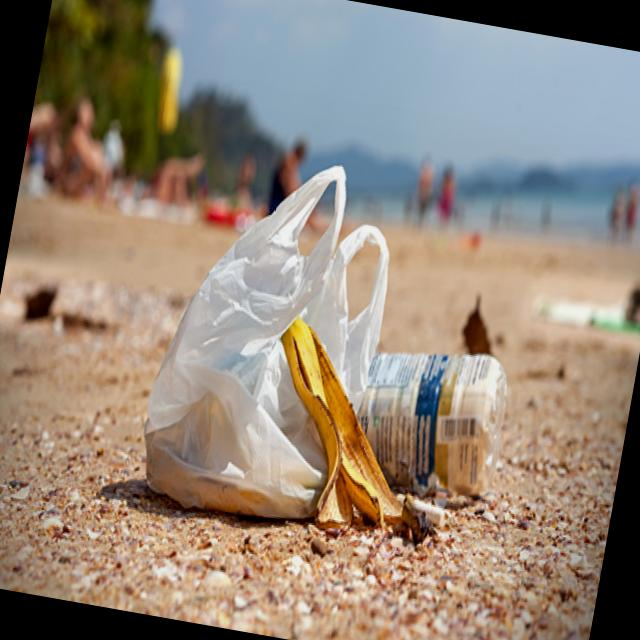garbage: (105, 127, 553, 640)
